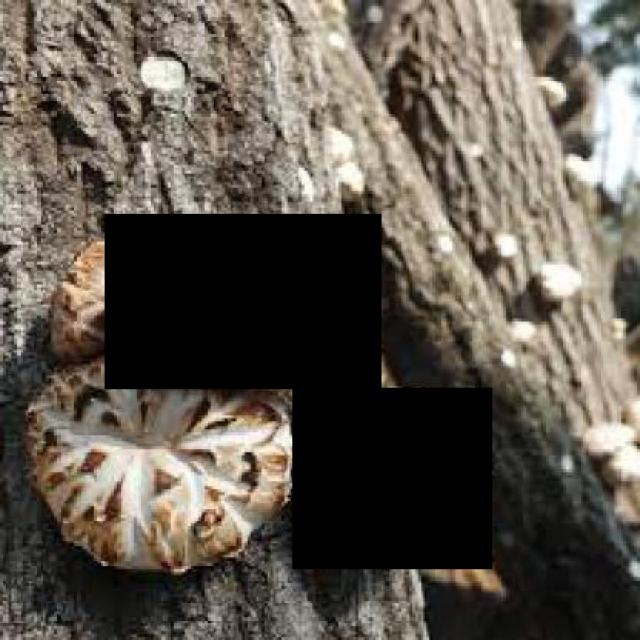Mushroom: (105, 215, 382, 390), (292, 387, 493, 570)
